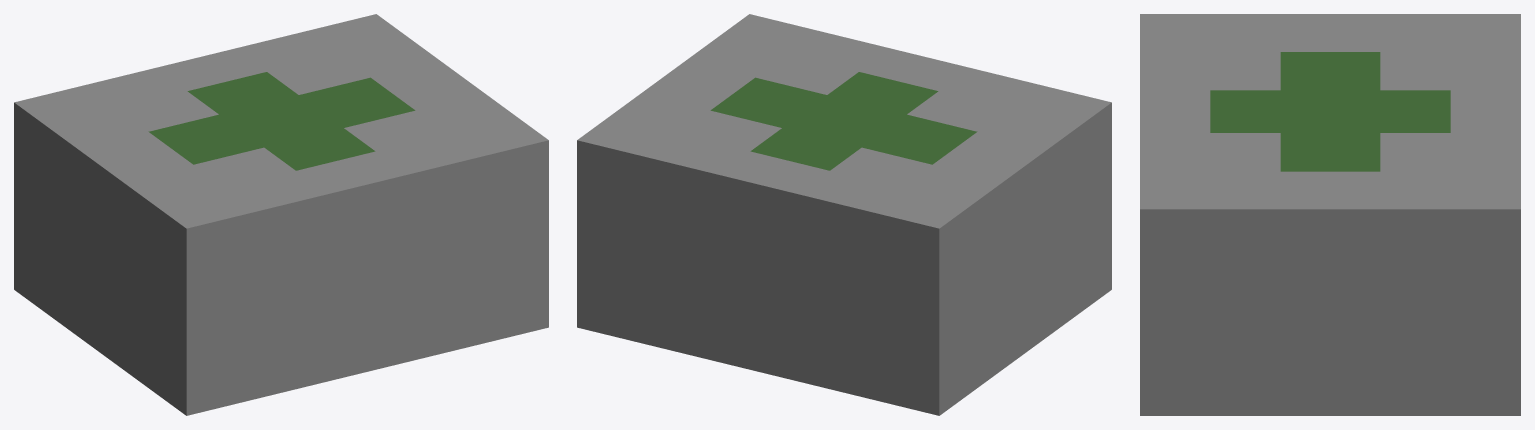
Rendered from health_kit.glb.
3 renders of one model, left to right at view 1: azimuth 30°, elevation 25°; view 2: azimuth 150°, elevation 25°; view 3: azimuth 270°, elevation 25°, orthographic. The views are drawn at different scales.
Visible parts, largest first — view 1: package.002; view 2: package.002; view 3: package.002.
Part boxes in pixels (x1,y1,x2,y2): package.002: [14, 14, 548, 415]; package.002: [577, 14, 1111, 415]; package.002: [1140, 14, 1520, 415].
Size of the model in its own units: 1 by 0.4939 by 0.8243.
